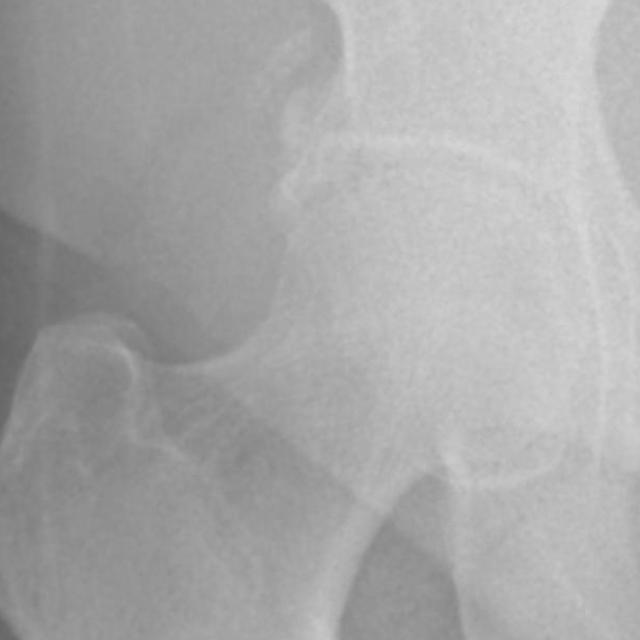Fitted_femural_head: (309, 169, 432, 309)
